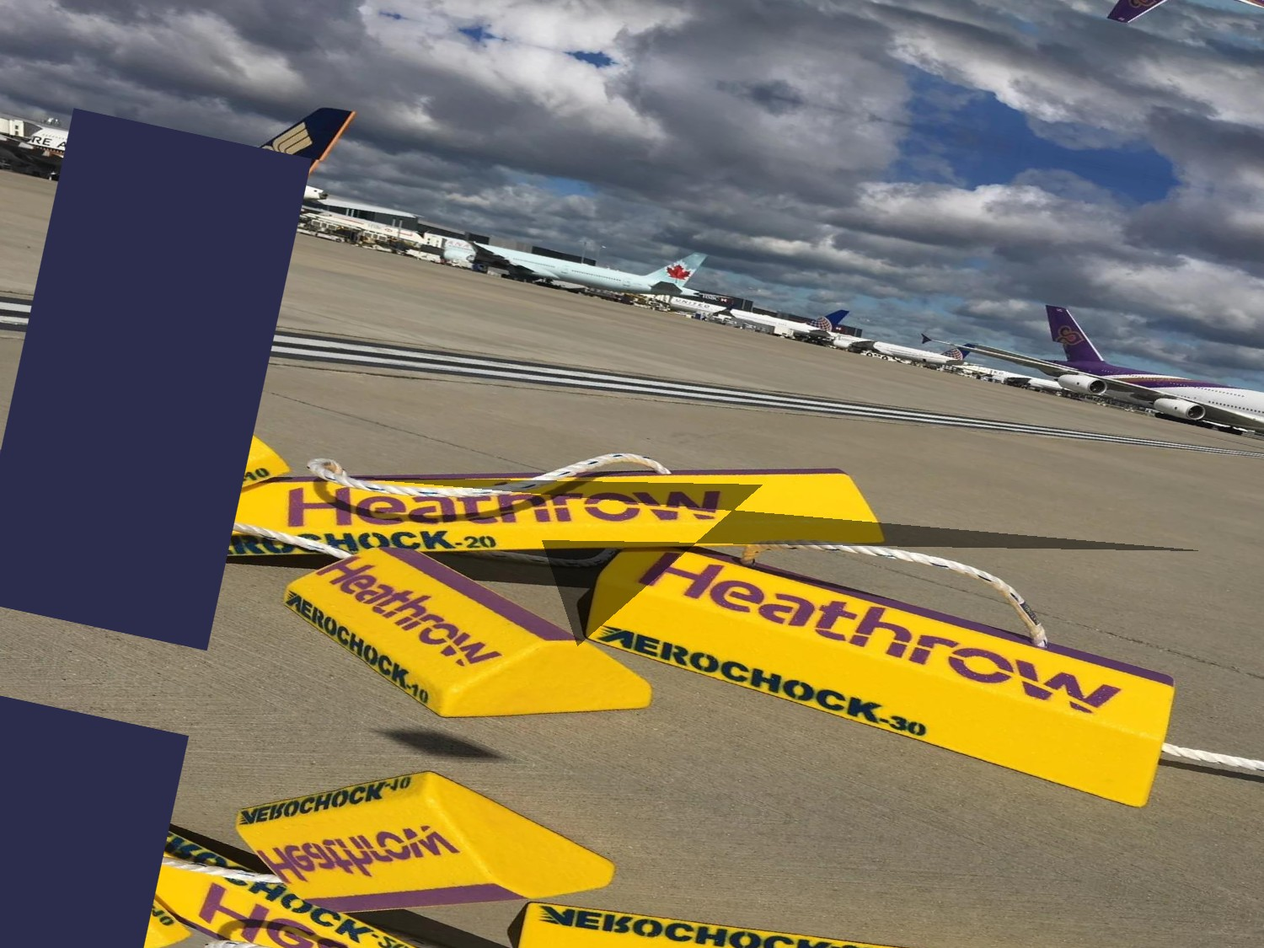chock: (120, 322, 900, 705), (568, 517, 1190, 812), (20, 793, 799, 948), (262, 523, 674, 762), (218, 731, 629, 948), (0, 338, 304, 610), (497, 851, 1119, 948), (0, 720, 222, 948)
